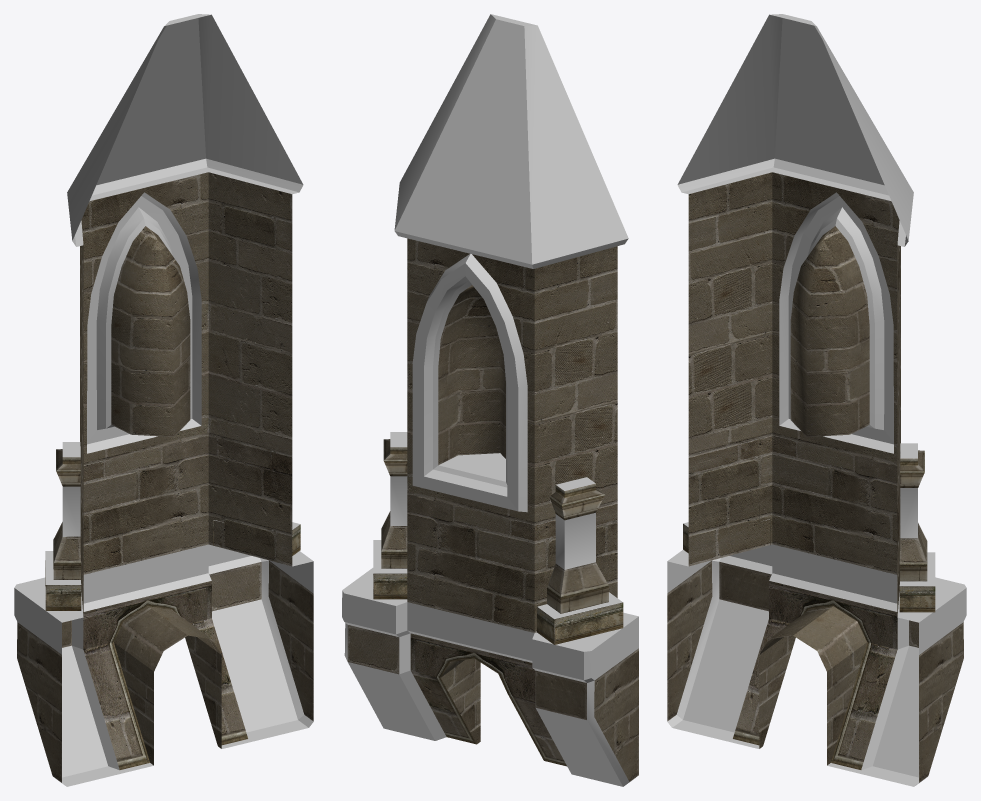
The model's file is SM_Tower_WindowDetail_01.FBX.
3 views of the same model, side by side, from view 1: azimuth 30°, elevation 25°; view 2: azimuth 150°, elevation 25°; view 3: azimuth 330°, elevation 25° (orthographic).
Visible parts, largest first — view 1: SM_Tower_WindowDetail_01; view 2: SM_Tower_WindowDetail_01; view 3: SM_Tower_WindowDetail_01.
Boxes of the visible parts, box(x1,y1,x2,y2) form: SM_Tower_WindowDetail_01: box(14, 14, 313, 786); SM_Tower_WindowDetail_01: box(342, 14, 638, 786); SM_Tower_WindowDetail_01: box(667, 14, 966, 786).
Size of what is drawn, in the model's own units: 466 by 163 by 1295.
